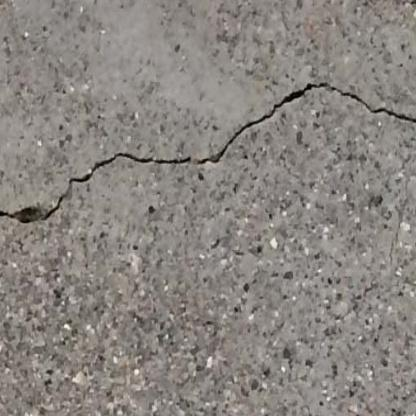Cracks: (65, 78, 416, 190), (0, 194, 68, 230)
